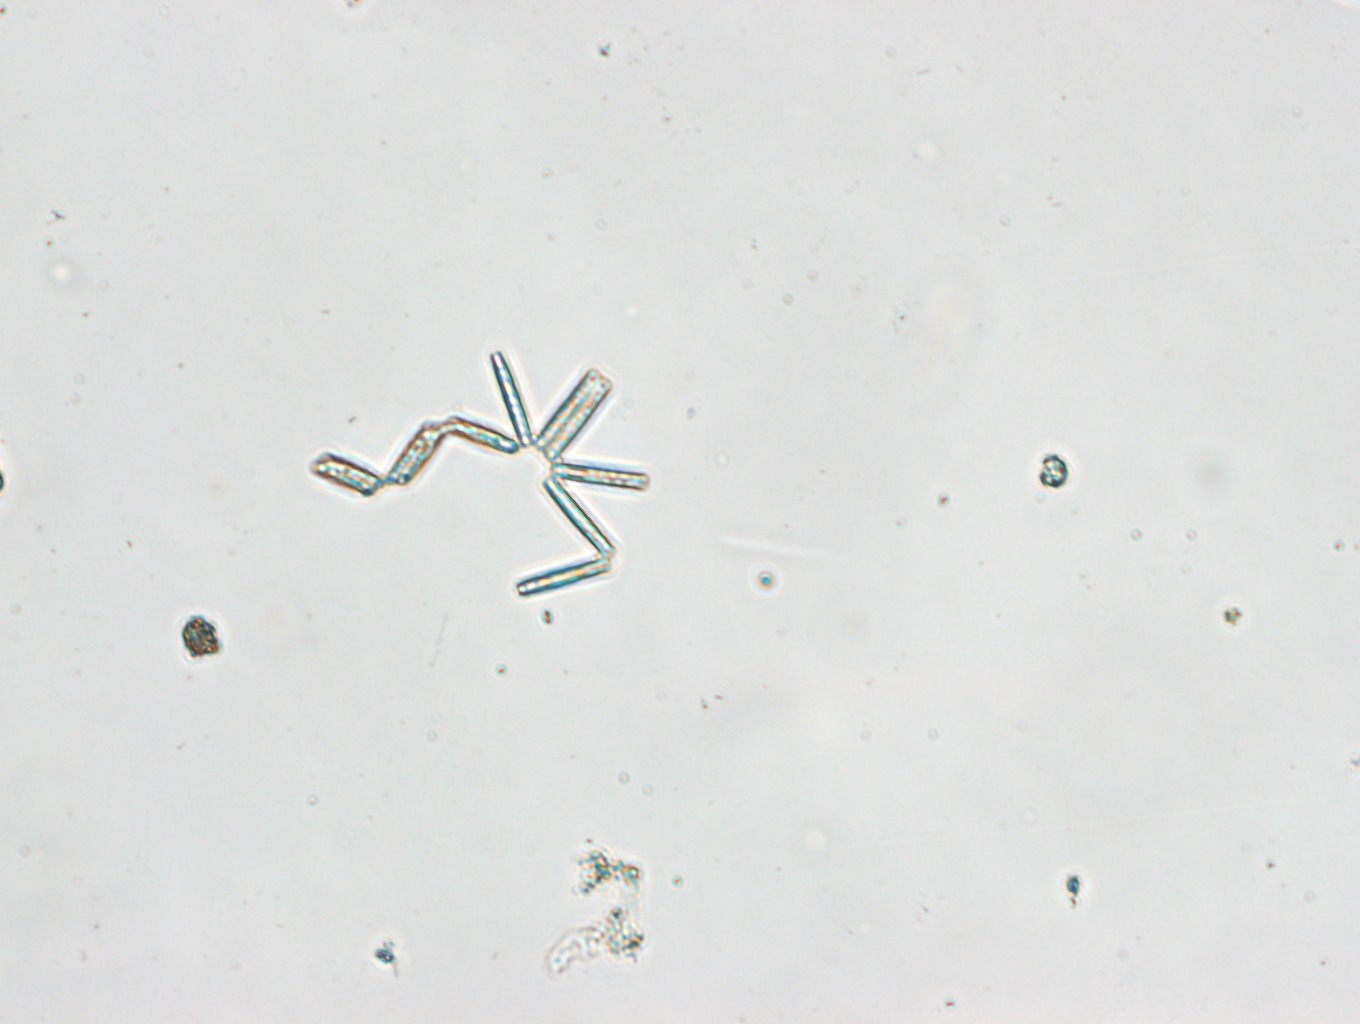thalassionema nitzschioides: (311, 351, 649, 600)
